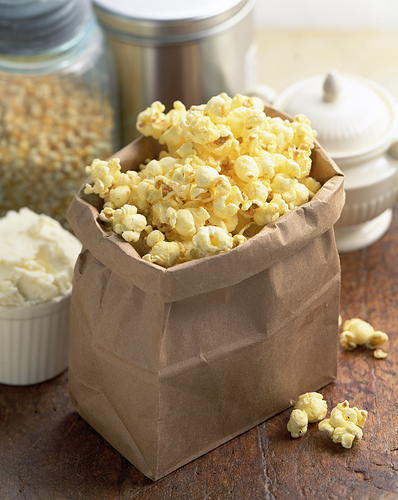corn: (0, 60, 117, 228), (287, 390, 330, 440)
